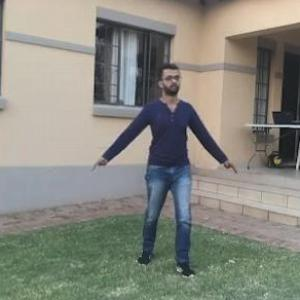land: (99, 70, 229, 261)
